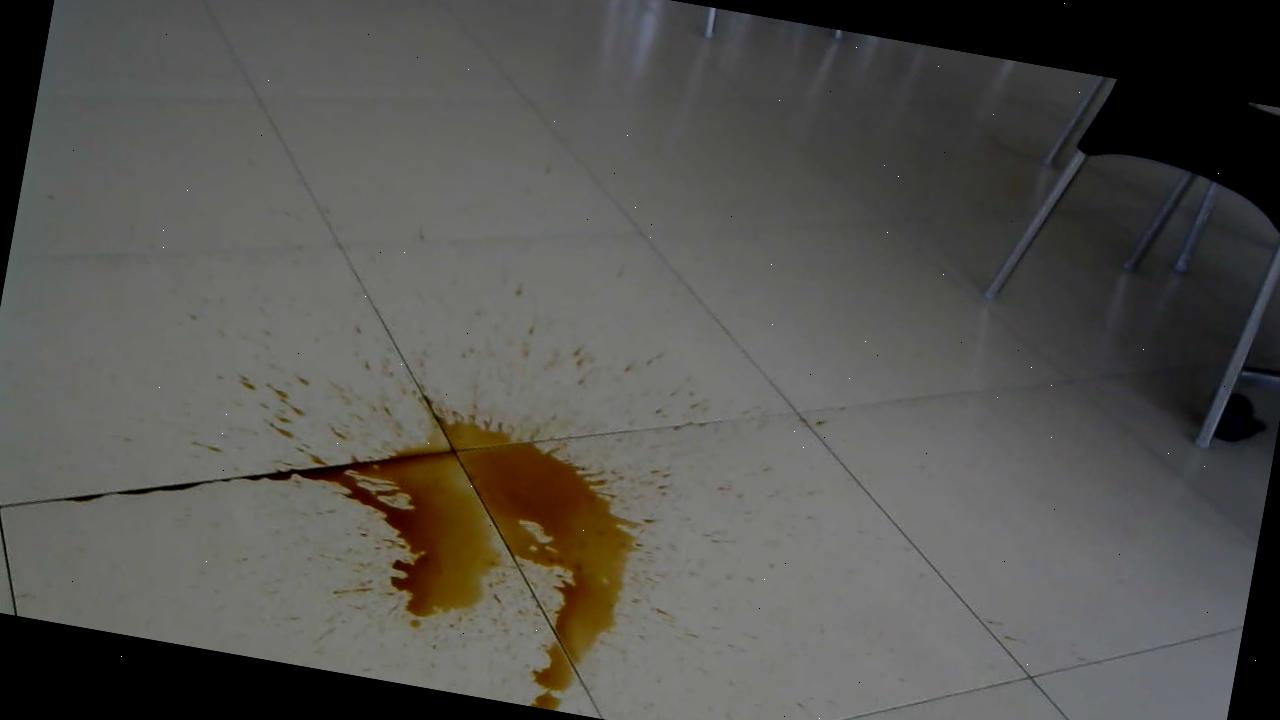dirty_floor: (216, 369, 666, 717)
